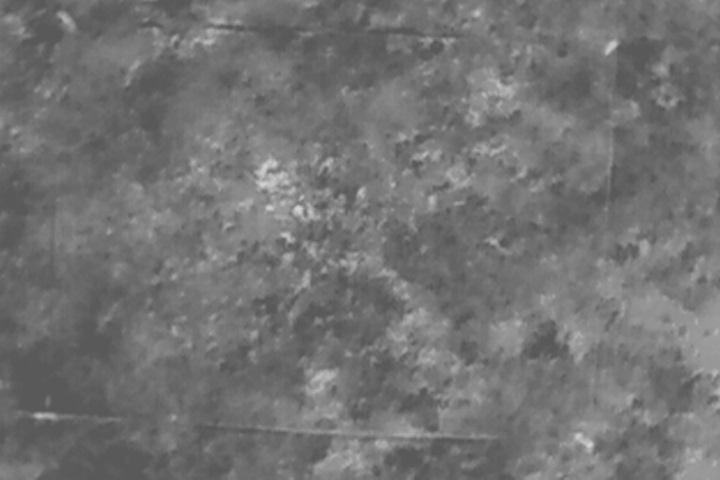landmine: (254, 158, 288, 190)
